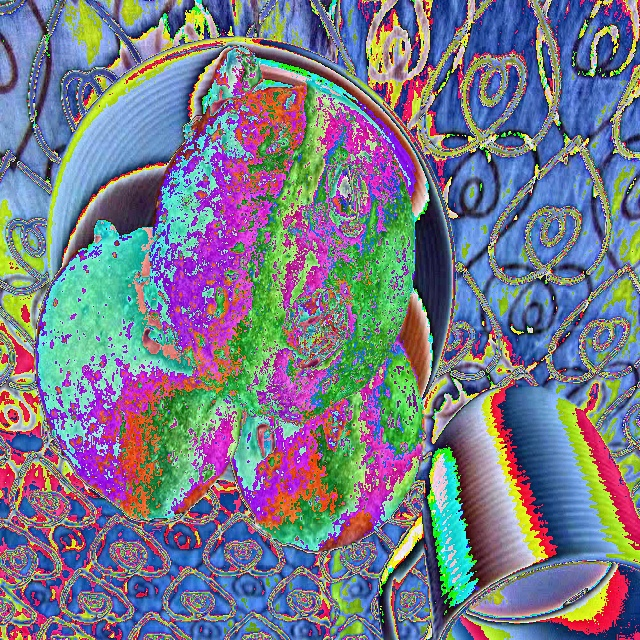background: (151, 61, 616, 618), (35, 42, 425, 549)
